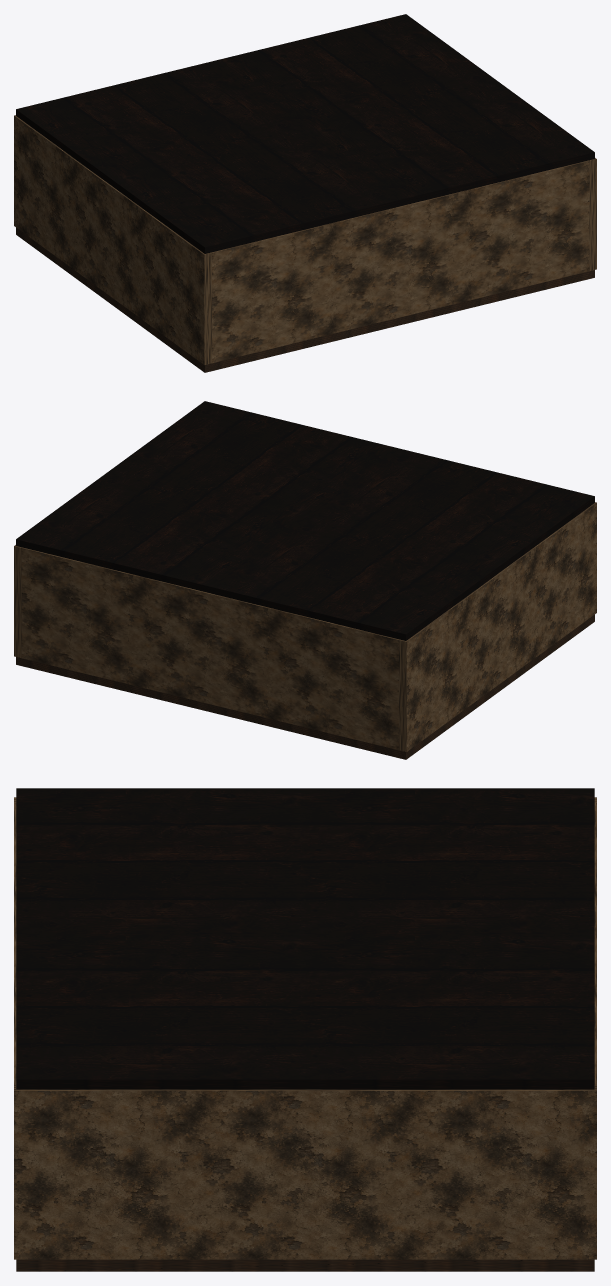
Rendered from enclosed-C-v9.glb.
The picture shows the model from 3 angles, top to bottom: view 1: azimuth 30°, elevation 25°; view 2: azimuth 150°, elevation 25°; view 3: azimuth 270°, elevation 25°; orthographic projection. The views are drawn at different scales.
Parts seen in each view (by area): view 1: 封閉調查區_v4_C; view 2: 封閉調查區_v4_C; view 3: 封閉調查區_v4_C.
Part boxes in pixels (box(x1,y1,x2,y2)): 封閉調查區_v4_C: box(14, 14, 596, 372); 封閉調查區_v4_C: box(14, 401, 596, 759); 封閉調查區_v4_C: box(14, 788, 596, 1271).
Bounding box in the file's own units: 12.48 × 3.81 × 10.48.
Materials: 20 (17 with a texture image).
